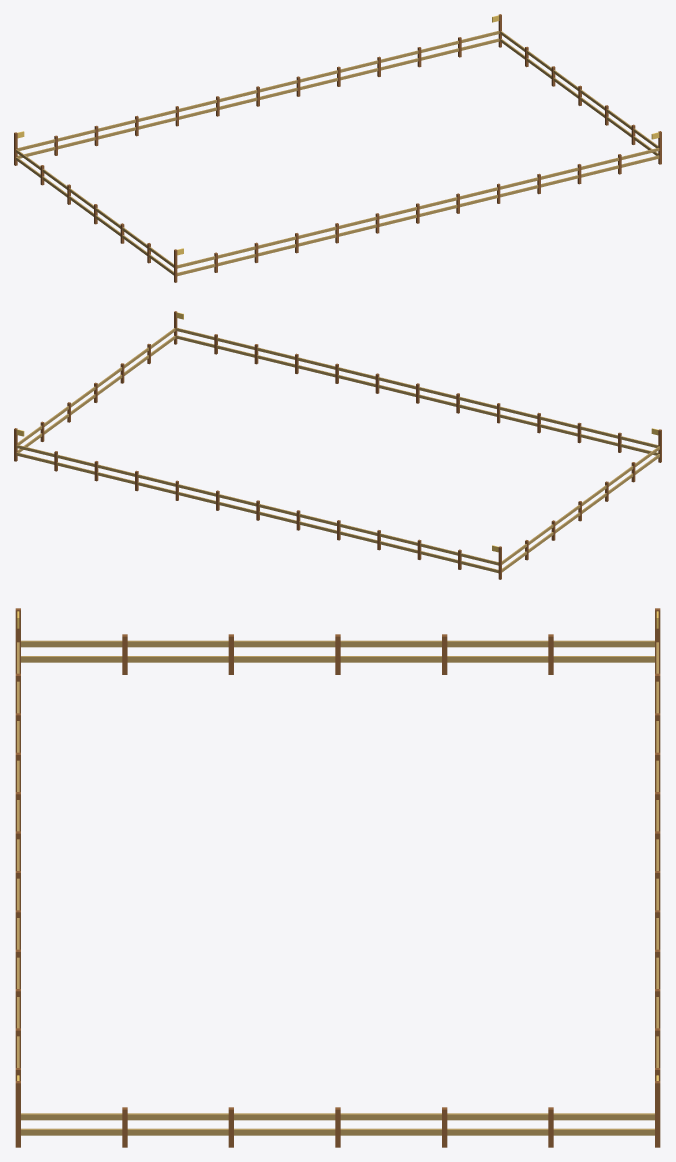
The model's file is fence.glb.
3 renders of one model, top to bottom at view 1: azimuth 30°, elevation 25°; view 2: azimuth 150°, elevation 25°; view 3: azimuth 270°, elevation 25°, orthographic. The views are drawn at different scales.
Visible parts, largest first — view 1: Fence; view 2: Fence; view 3: Fence.
Boxes of the visible parts, <box> form: Fence: <box>14,14,661,282</box>; Fence: <box>14,311,661,579</box>; Fence: <box>15,608,660,1147</box>.
Size of the model in its own units: 25.32 by 1.6 by 14.52.
